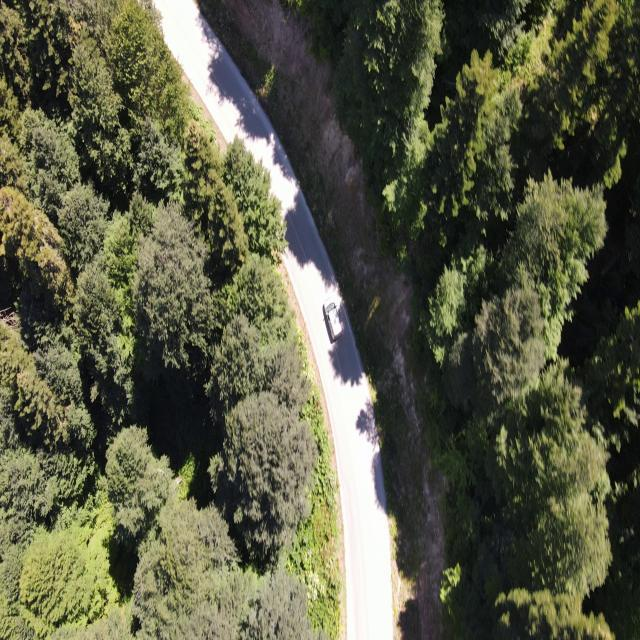vehicle: (323, 296, 343, 340)
